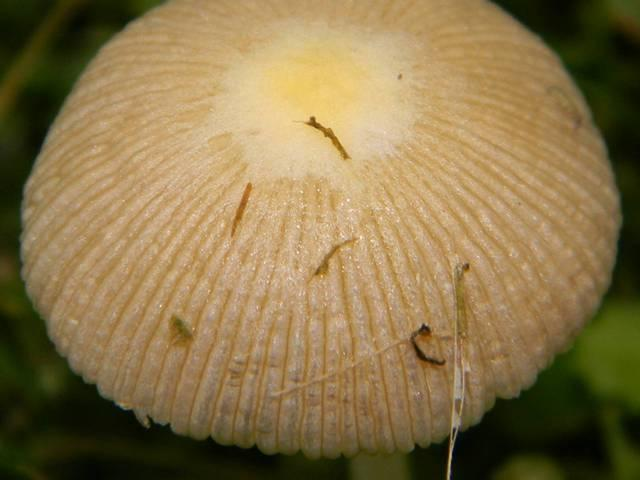Edible Mushroom: (18, 0, 623, 466)
